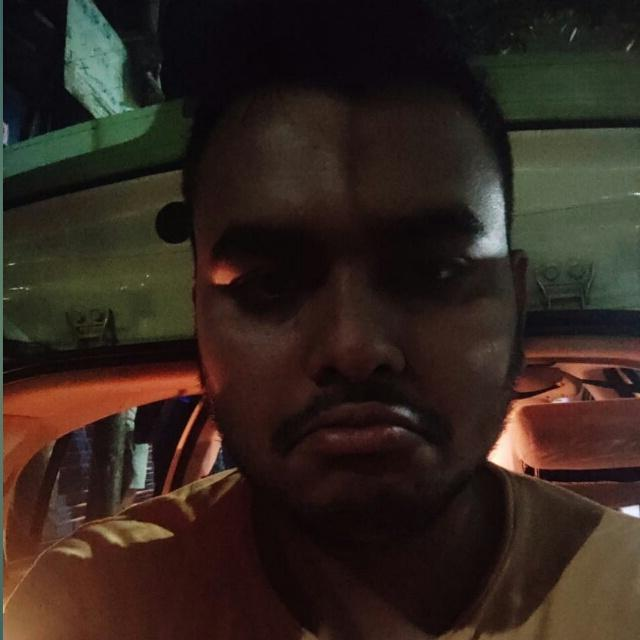Sad: (157, 70, 539, 517)
